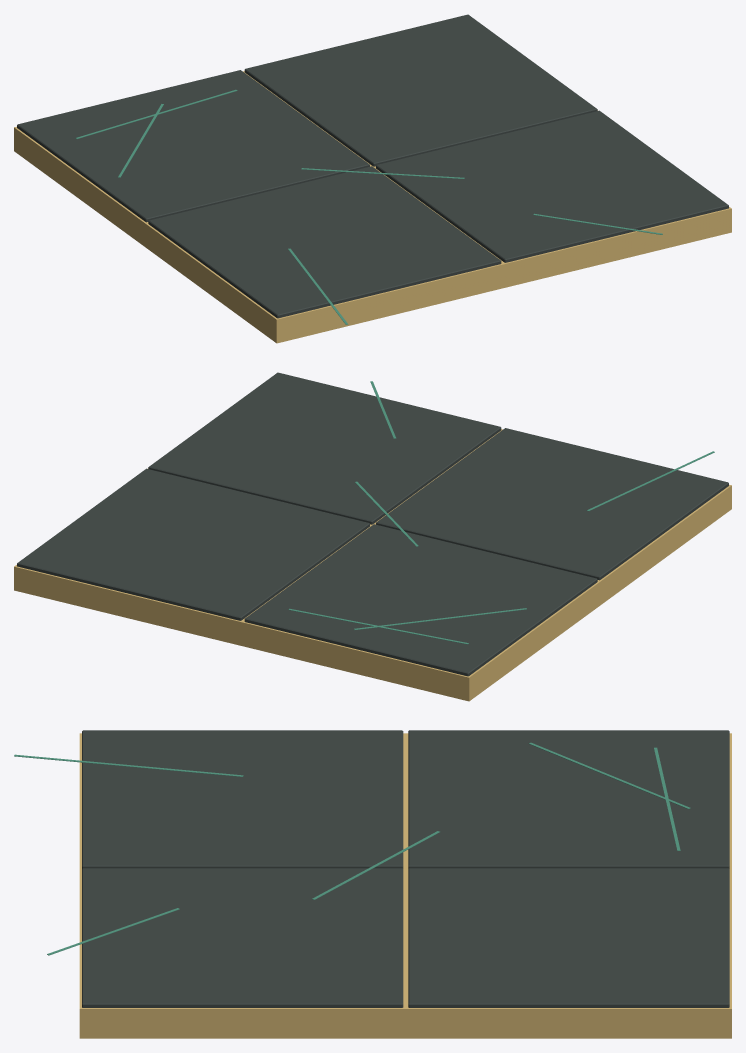
The model's file is floor_ex_marble.glb.
3 views of the same model, one above another, from view 1: azimuth 30°, elevation 25°; view 2: azimuth 150°, elevation 25°; view 3: azimuth 270°, elevation 25° (orthographic). The views are drawn at different scales.
Visible parts, largest first — view 1: floor_ex_marble; view 2: floor_ex_marble; view 3: floor_ex_marble.
Boxes of the visible parts, left/top/right/bottom form: floor_ex_marble: left=14, top=14, right=731, bottom=343; floor_ex_marble: left=14, top=372, right=731, bottom=701; floor_ex_marble: left=14, top=730, right=731, bottom=1038.
Size of the model in its own units: 4 by 0.2315 by 4.4.
